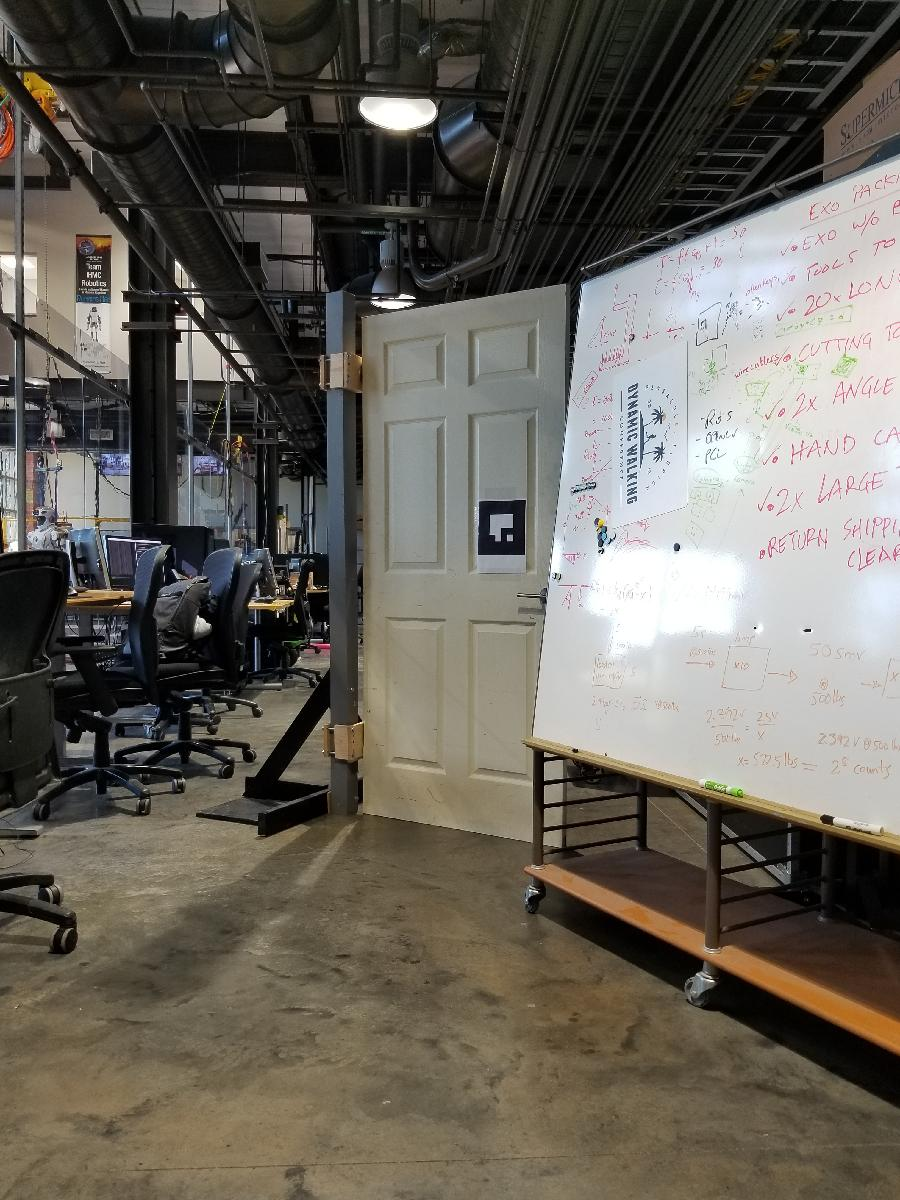door: (357, 277, 571, 855)
doorHandle: (515, 584, 558, 611)
